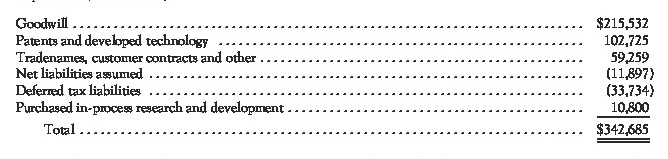table: (0, 0, 668, 159)
